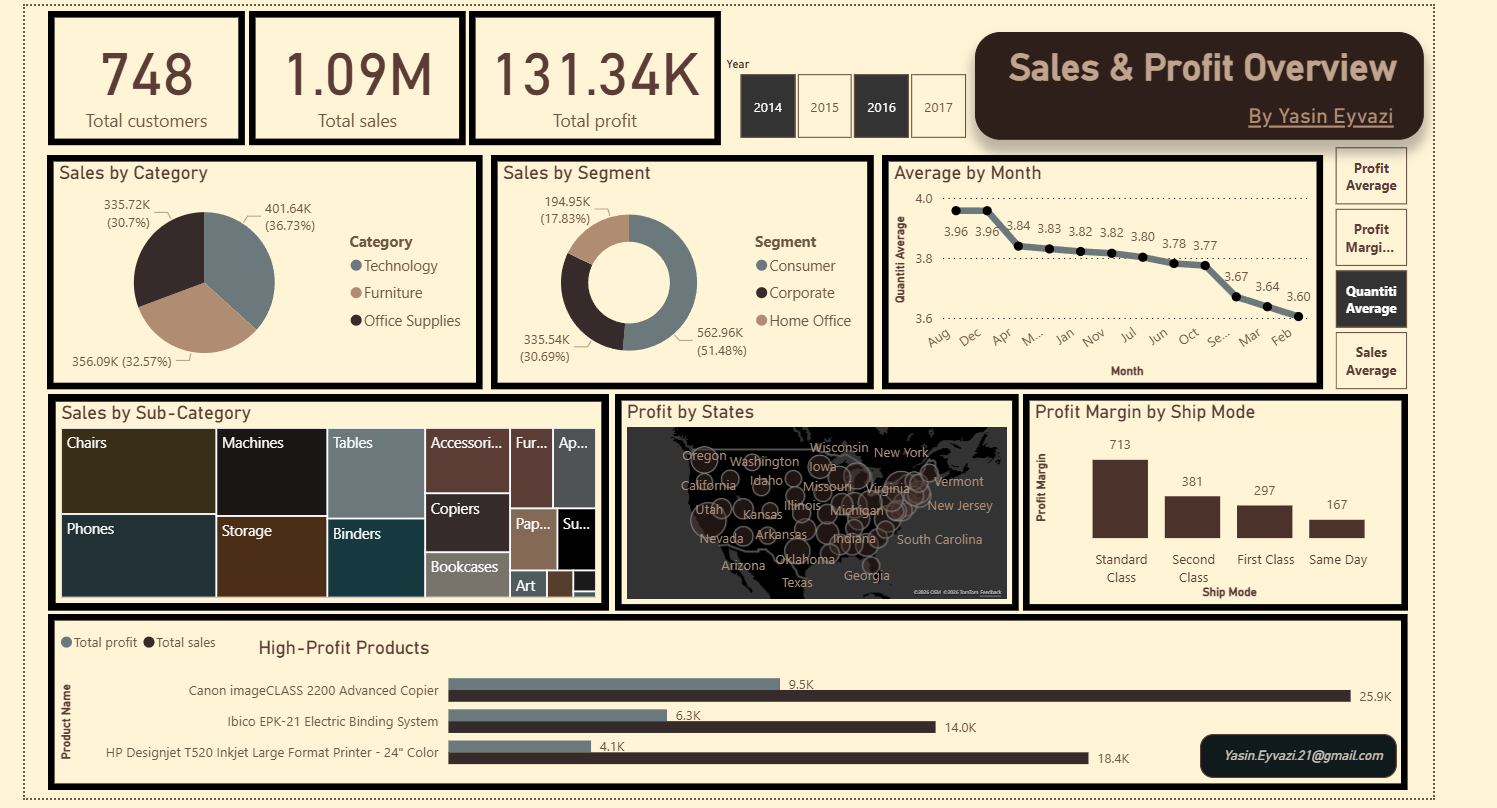

This screenshot's page, from the dashboard's own definition file:
{"tool":"powerbi","page":{"name":"Sales Dashboard","canvas":[1280,720],"ordinal":0},"visuals":[{"type":"pieChart","title":"Sales by Category","fields":{"Category":["Sample - Superstore.Category"],"Y":["Sample - Superstore.Total sales"]},"box":[20,135,396,213],"z":0},{"type":"slicer","fields":{"Values":["Sample - Superstore.Year"]},"box":[624.8,40.6,254.9,85.7],"z":1000},{"type":"azureMap","title":"Profit by States","fields":{"Category":["Sample - Superstore.State","Sample - Superstore.City"],"Size":["Sum(Table1.Profit)"]},"box":[536,353,367,197],"z":2000},{"type":"card","fields":{"Values":["Sample - Superstore.Total customers"]},"box":[21,5,178.9,121.9],"z":3000},{"type":"card","fields":{"Values":["Sample - Superstore.Total sales"]},"box":[203.8,5,196.8,121.9],"z":4000},{"type":"donutChart","title":" Sales by Segment","fields":{"Category":["Sample - Superstore.Segment"],"Y":["Sample - Superstore.Total sales"]},"box":[424,135,348,213],"z":5000},{"type":"clusteredBarChart","title":"High-Profit Products","fields":{"Category":["Sample - Superstore.Product Name"],"Y":["Sample - Superstore.Total profit","Sample - Superstore.Total sales"]},"box":[21,553,1236,160],"z":6000},{"type":"slicer","fields":{"Values":["Parameter.Parameter"]},"box":[1165,106,115,259],"z":7000},{"type":"lineChart","title":"Average by Month","fields":{"Y":["Sample - Superstore.Profit Average"],"Category":["Sample - Superstore.Month"]},"box":[779,135,401,213],"z":8000},{"type":"clusteredColumnChart","title":" Profit Margin by Ship Mode","fields":{"Category":["Sample - Superstore.Ship Mode"],"Y":["Sum(Table1.Profit Margin)"]},"box":[907,353,350,197],"z":9000},{"type":"card","fields":{"Values":["Sample - Superstore.Total profit"]},"box":[403.7,5,228.8,121.9],"z":10000},{"type":"textbox","box":[863.9,23.7,408.2,98.1],"z":11000},{"type":"textbox","box":[1107.5,83.5,145.5,86.8],"z":12000},{"type":"textbox","box":[207.2,568,242.2,33.1],"z":13000},{"type":"treemap","title":"Sales by Sub-Category","fields":{"Group":["Sample - Superstore.Sub-Category"],"Values":["Sample - Superstore.Total sales"]},"box":[21,353,510,197],"z":14000},{"type":"textbox","box":[1068.2,661.8,179.1,40],"z":16001}]}

Visuals, with their boxes in screenshot pixels (x1, y1, x2, y2):
"Sales by Category" pieChart: {"left": 42, "top": 149, "right": 479, "bottom": 385}
slicer - Sample - Superstore.Year: {"left": 710, "top": 45, "right": 992, "bottom": 140}
"Profit by States" azureMap: {"left": 612, "top": 390, "right": 1018, "bottom": 608}
card - Sample - Superstore.Total customers: {"left": 43, "top": 6, "right": 240, "bottom": 140}
card - Sample - Superstore.Total sales: {"left": 245, "top": 6, "right": 462, "bottom": 140}
" Sales by Segment" donutChart: {"left": 488, "top": 149, "right": 873, "bottom": 385}
"High-Profit Products" clusteredBarChart: {"left": 43, "top": 611, "right": 1409, "bottom": 788}
slicer - Parameter.Parameter: {"left": 1307, "top": 117, "right": 1434, "bottom": 403}
"Average by Month" lineChart: {"left": 881, "top": 149, "right": 1324, "bottom": 385}
" Profit Margin by Ship Mode" clusteredColumnChart: {"left": 1022, "top": 390, "right": 1409, "bottom": 608}
card - Sample - Superstore.Total profit: {"left": 466, "top": 6, "right": 719, "bottom": 140}
textbox: {"left": 974, "top": 26, "right": 1426, "bottom": 135}
textbox: {"left": 1244, "top": 92, "right": 1404, "bottom": 188}
textbox: {"left": 249, "top": 628, "right": 516, "bottom": 664}
"Sales by Sub-Category" treemap: {"left": 43, "top": 390, "right": 606, "bottom": 608}
textbox: {"left": 1200, "top": 731, "right": 1398, "bottom": 776}
